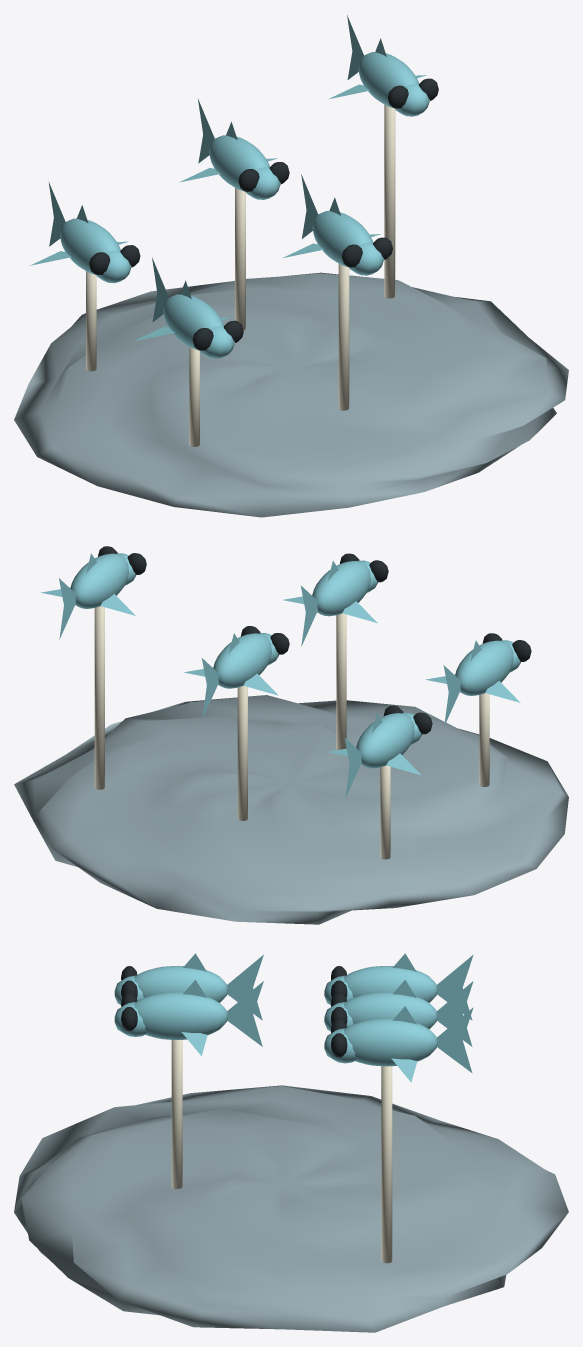
File: underwater-reef-worlds-static-shoal-2bdffe26__7076.glb
3 renders of one model, top to bottom at view 1: azimuth 30°, elevation 25°; view 2: azimuth 150°, elevation 25°; view 3: azimuth 270°, elevation 25°, orthographic. The views are drawn at different scales.
Visible parts, largest first — view 1: static-shoal; view 2: static-shoal; view 3: static-shoal.
Part boxes in pixels (x1,y1,x2,y2): static-shoal: (14,15,568,517); static-shoal: (14,546,568,924); static-shoal: (14,953,568,1332).
Size of the model in its own units: 1.68 by 0.9055 by 1.59.
